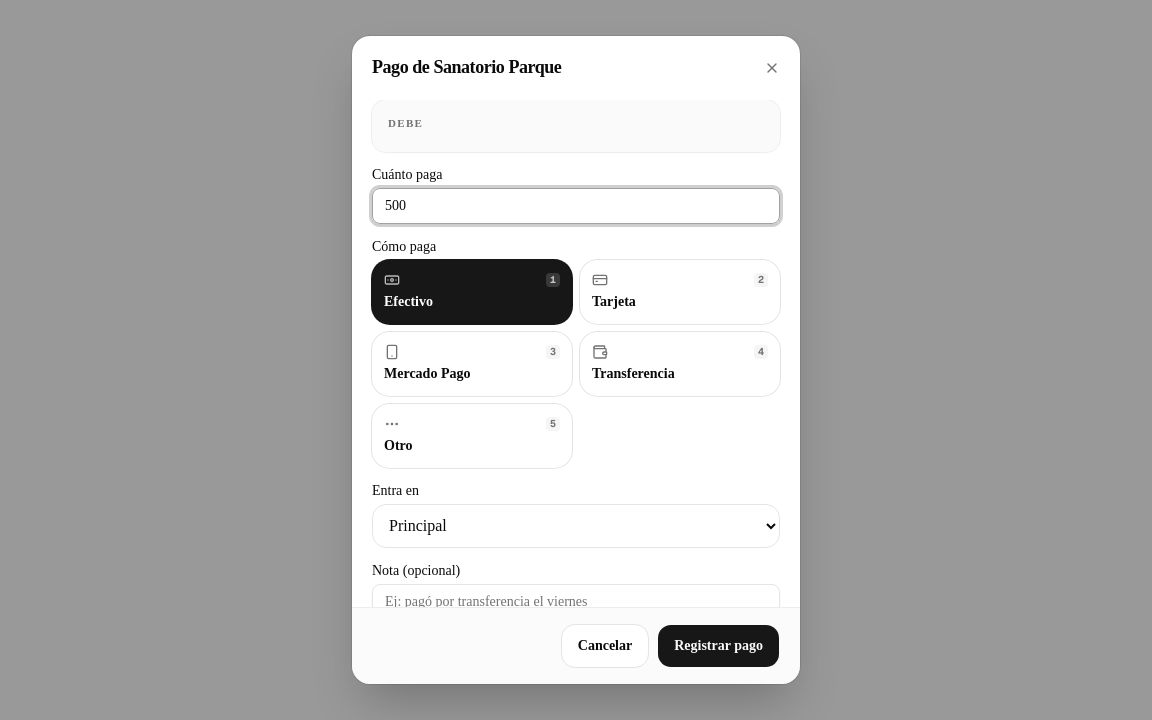
Test: <CobrarSaldoModal /> — el selector es el mismo de las otras pantallas › sólo el efectivo pregunta a qué caja entra
This screenshot has width=1152, height=720.
Expected: the dropdown labelled "Entra en" is shown, [372,504,780,548]
Step 1. Click the button "4 Transferencia" → (680, 364), box [580,332,780,396]
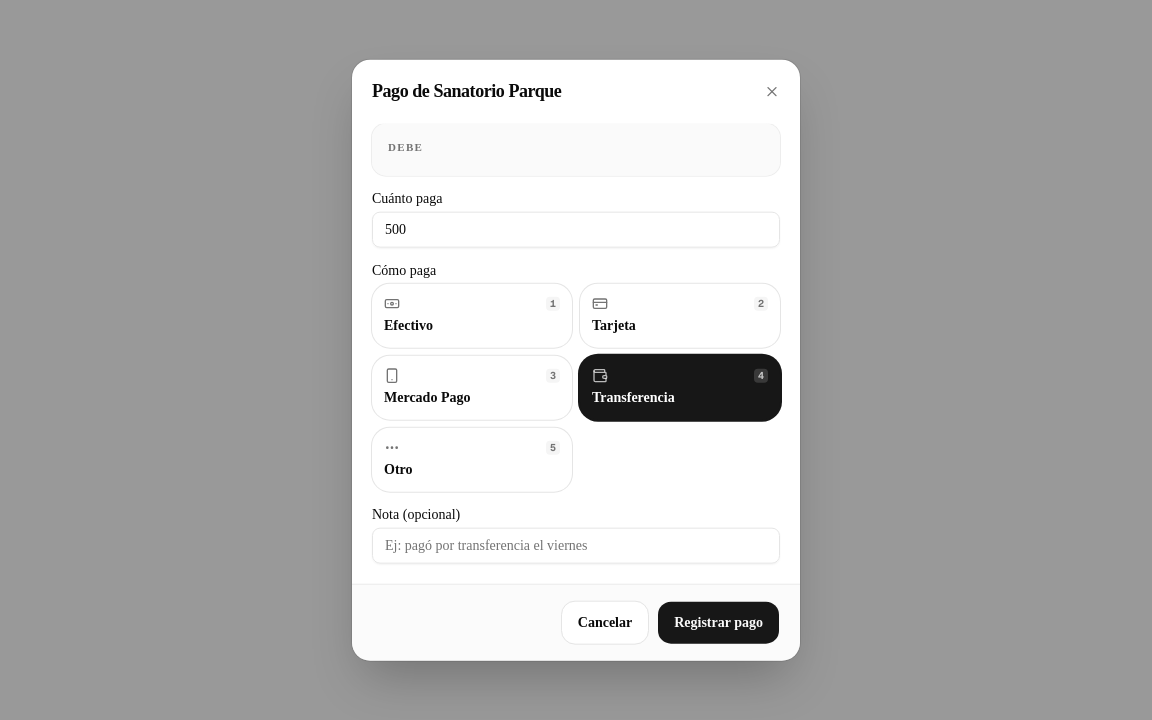
Result: the label labelled "Entra en" is gone
